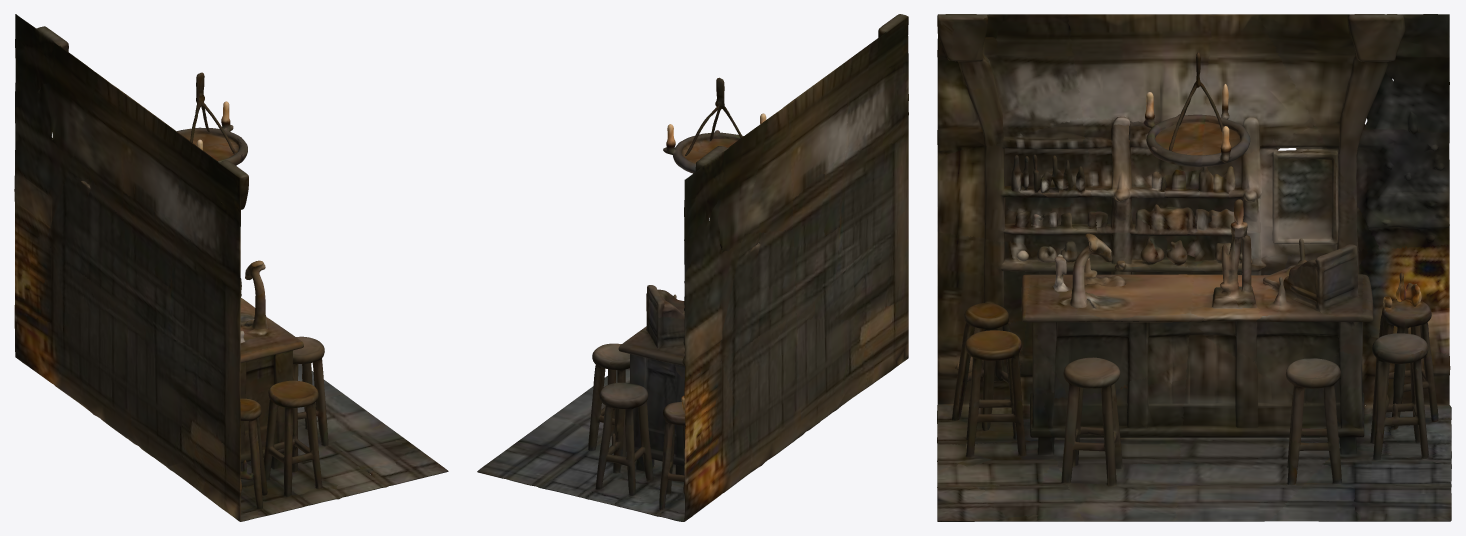
File: tripo_pbr_model_ffcc942d-1039-4117-9a35-84fdfc1183b7.glb
3 renders of one model, left to right at view 1: azimuth 30°, elevation 25°; view 2: azimuth 150°, elevation 25°; view 3: azimuth 270°, elevation 25°, orthographic. The views are drawn at different scales.
Parts seen in each view (by area): view 1: tripo_node_ffcc942d-1039-4117-9a35-84fdfc1183b7; view 2: tripo_node_ffcc942d-1039-4117-9a35-84fdfc1183b7; view 3: tripo_node_ffcc942d-1039-4117-9a35-84fdfc1183b7.
Boxes of the visible parts, box(x1,y1,x2,y2) form: tripo_node_ffcc942d-1039-4117-9a35-84fdfc1183b7: box(14, 14, 448, 521); tripo_node_ffcc942d-1039-4117-9a35-84fdfc1183b7: box(477, 14, 908, 521); tripo_node_ffcc942d-1039-4117-9a35-84fdfc1183b7: box(937, 14, 1451, 521).
Bounding box in the file's own units: 0.5361 × 0.8514 × 1.
Materials: 1 (1 with a texture image).
